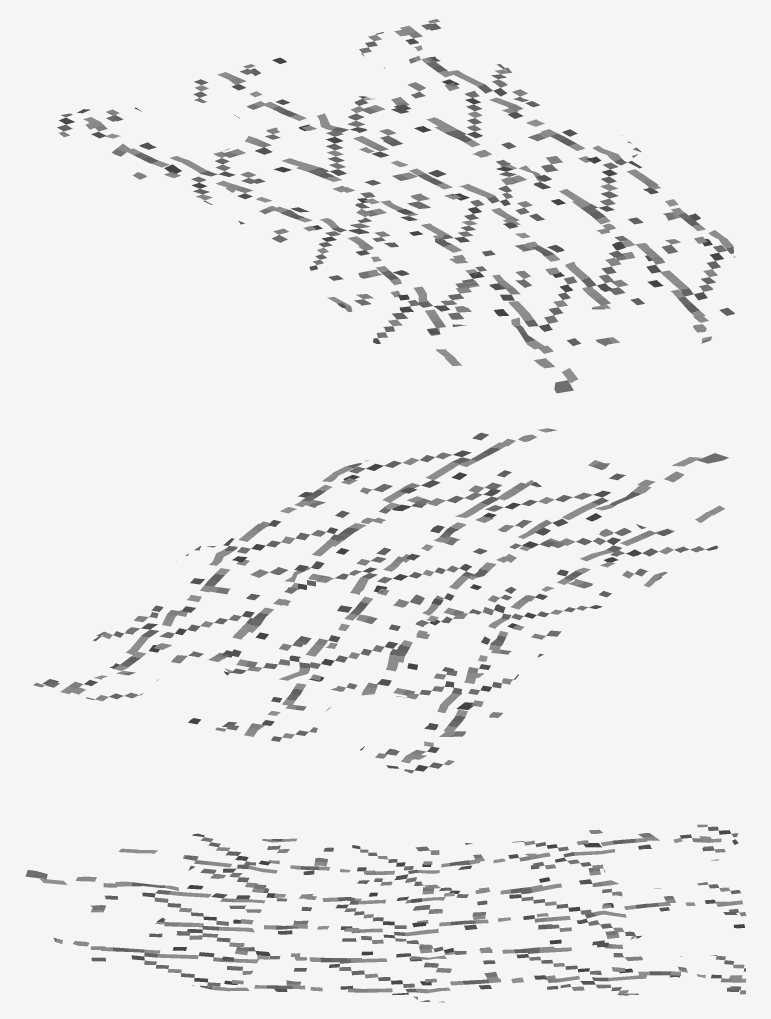
File: vanilla_effects_fxrapidsbig01-919f1b2d.glb
3 views of the same model, one above another, from view 1: azimuth 30°, elevation 25°; view 2: azimuth 150°, elevation 25°; view 3: azimuth 270°, elevation 25° (orthographic). The views are drawn at different scales.
Visible parts, largest first — view 1: es|BIGwHITEWATER01, es|BIGwHITEWATER03; view 2: es|BIGwHITEWATER01, es|BIGwHITEWATER03; view 3: es|BIGwHITEWATER01, es|BIGwHITEWATER03.
Part boxes in pixels (x1,y1,x2,y2): es|BIGwHITEWATER01: (57, 19, 735, 383); es|BIGwHITEWATER03: (77, 23, 733, 393); es|BIGwHITEWATER01: (33, 428, 724, 773); es|BIGwHITEWATER03: (43, 428, 728, 768); es|BIGwHITEWATER01: (40, 824, 746, 995); es|BIGwHITEWATER03: (25, 829, 742, 1002).
Bounding box in the file's own units: 24.28 × 1.49e-08 × 40.23.
2 materials, 2 textured.
